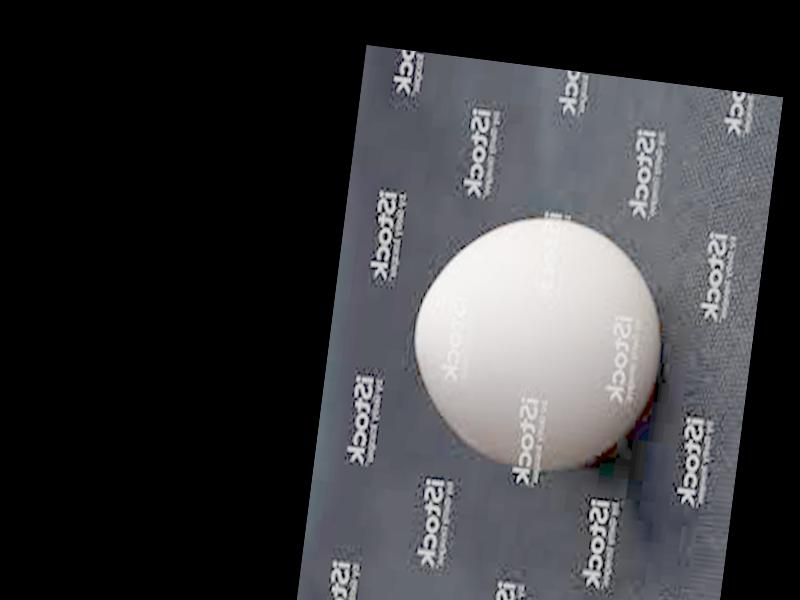Eggs: (400, 204, 676, 484)
